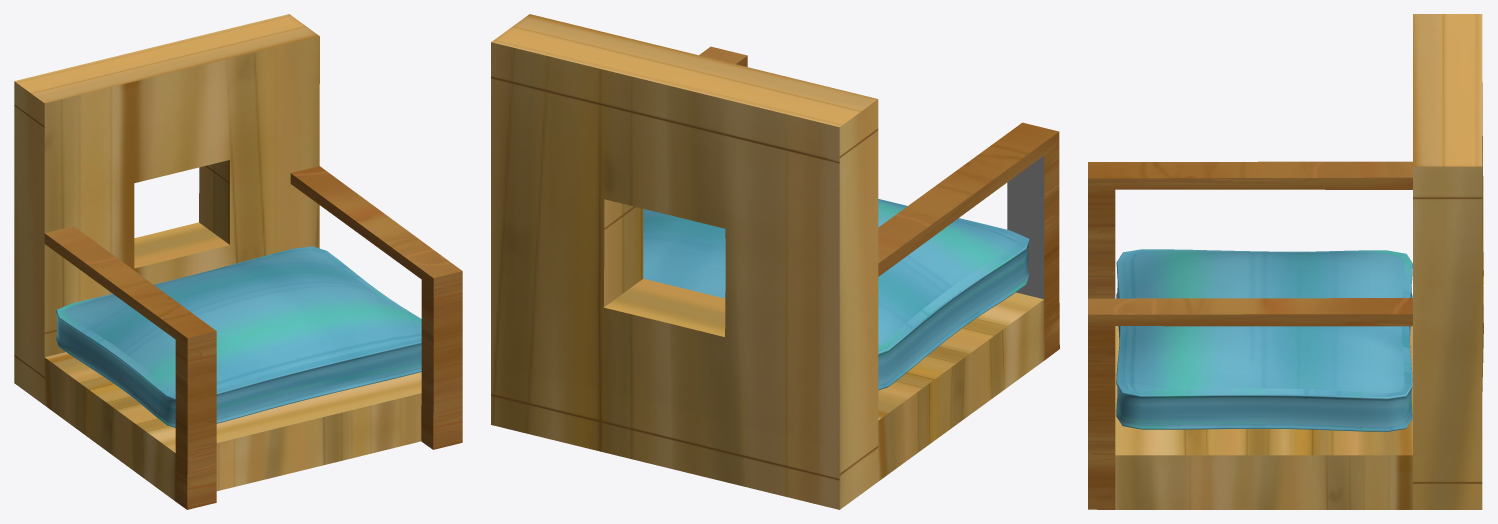
Rendered from chair_blue.fbx.
3 renders of one model, left to right at view 1: azimuth 30°, elevation 25°; view 2: azimuth 150°, elevation 25°; view 3: azimuth 270°, elevation 25°, orthographic. The views are drawn at different scales.
Visible parts, largest first — view 1: pCube49; view 2: pCube49; view 3: pCube49.
Part boxes in pixels (bbox=[...]): pCube49: bbox=[14, 14, 462, 509]; pCube49: bbox=[491, 14, 1059, 509]; pCube49: bbox=[1088, 14, 1483, 509].
Bounding box in the file's own units: 5.6 × 5.87 × 6.13.
4 materials, 3 textured.
